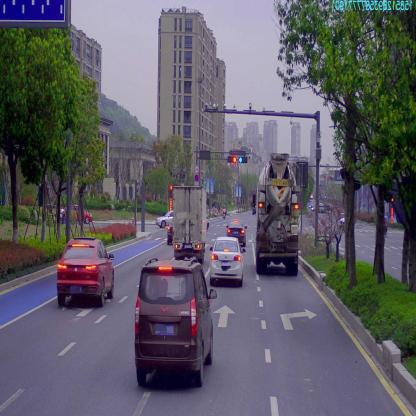traffic-light: (228, 156, 236, 164), (239, 157, 248, 162)
